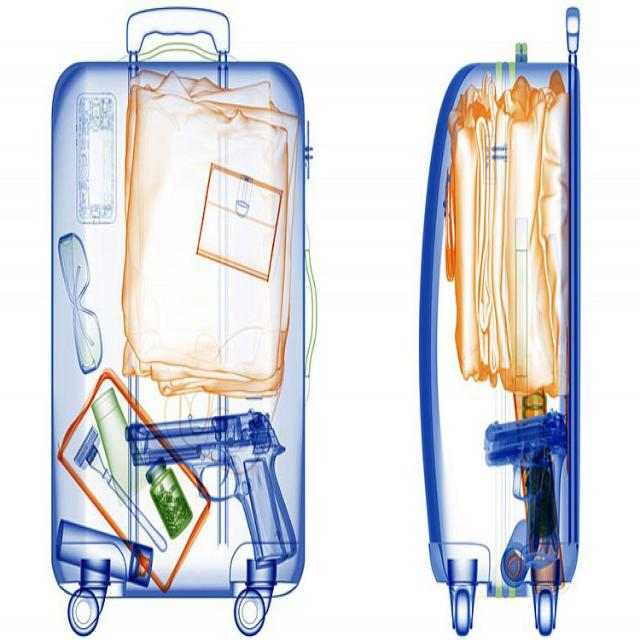pistol: (126, 409, 297, 564), (486, 410, 570, 561)
